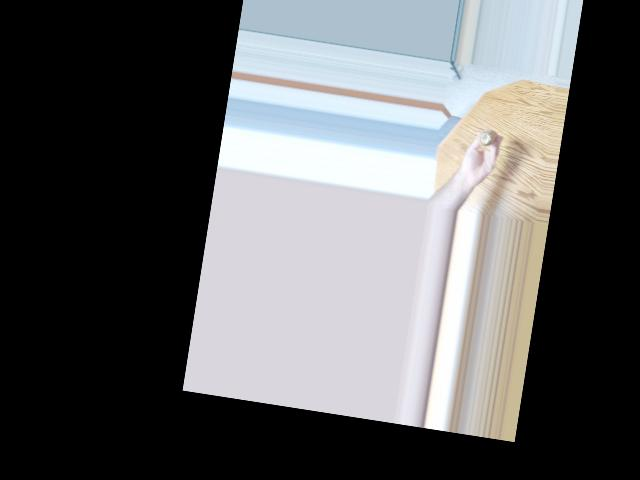sweet_potato: (475, 124, 494, 146)
